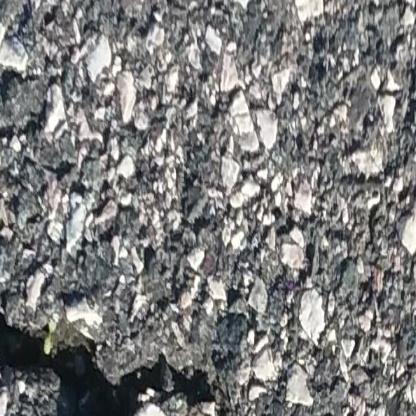Cracks: (0, 252, 262, 416)
